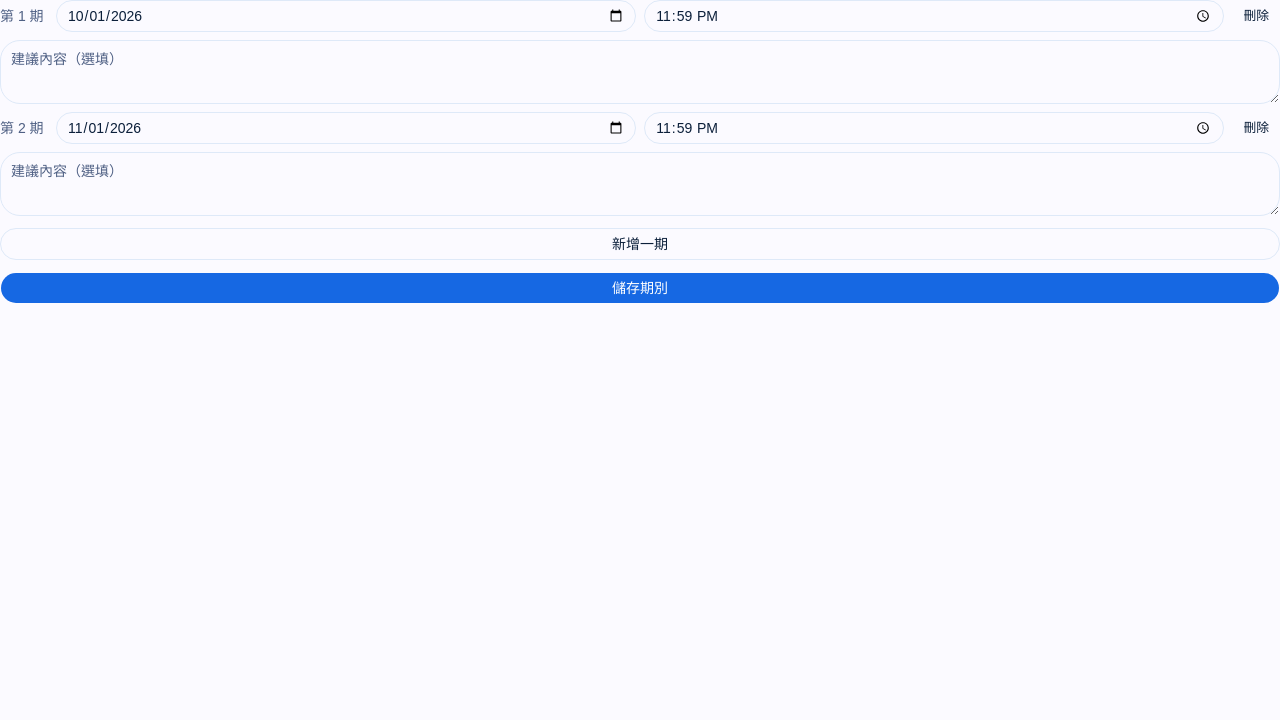
Test case: PeriodsForm › 確認視窗按取消：不儲存，列表維持編輯中的樣子
Step 1. Click the button with aria-label "刪除第 1 期" → (1256, 16), box x1=1232 y1=2 x2=1279 y2=30
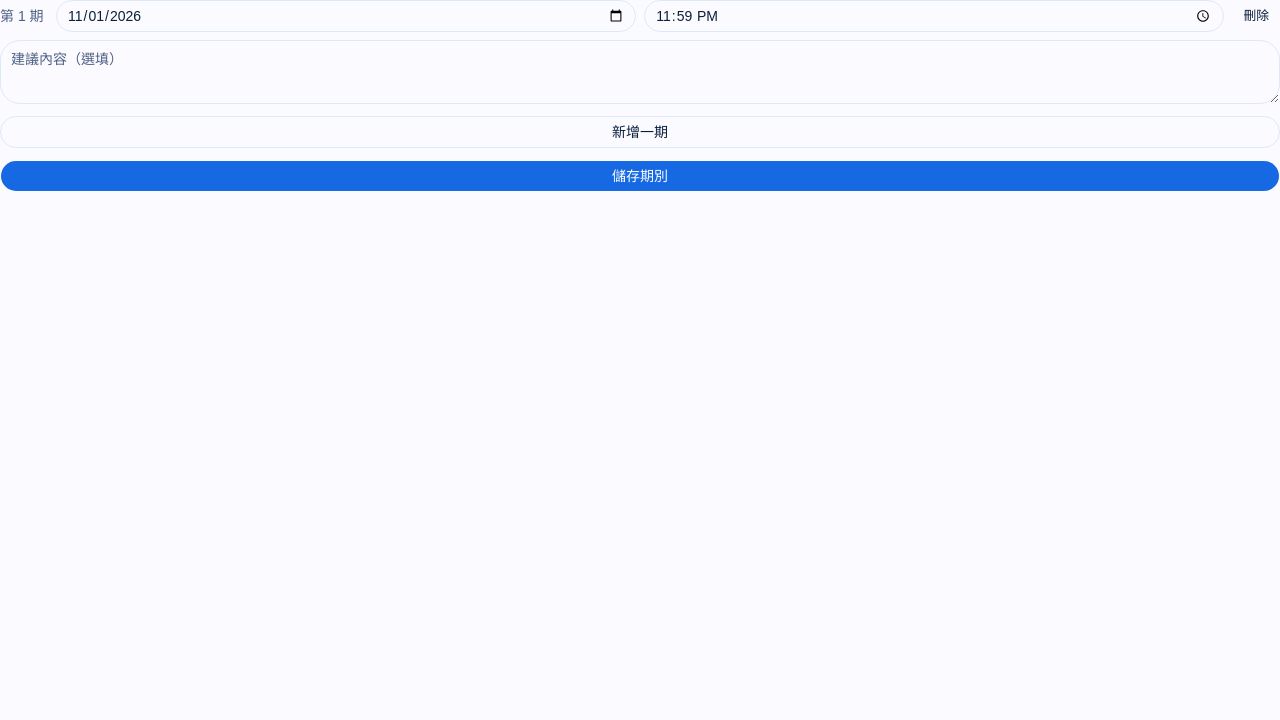
Step 2. Click the button "儲存期別" → (640, 176), box x1=0 y1=160 x2=1279 y2=192
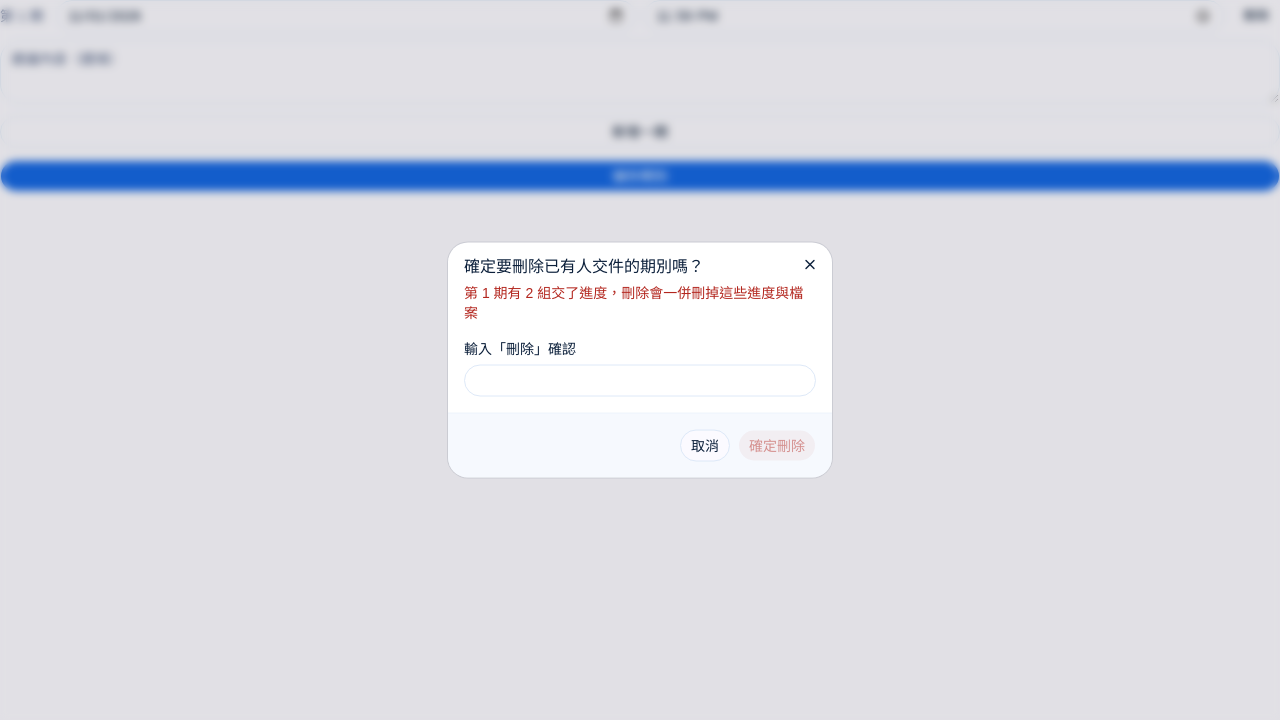
expect the dialog is shown: met, box x1=448 y1=242 x2=832 y2=478
Step 3. Click the button "取消" → (705, 446), box x1=680 y1=430 x2=730 y2=462
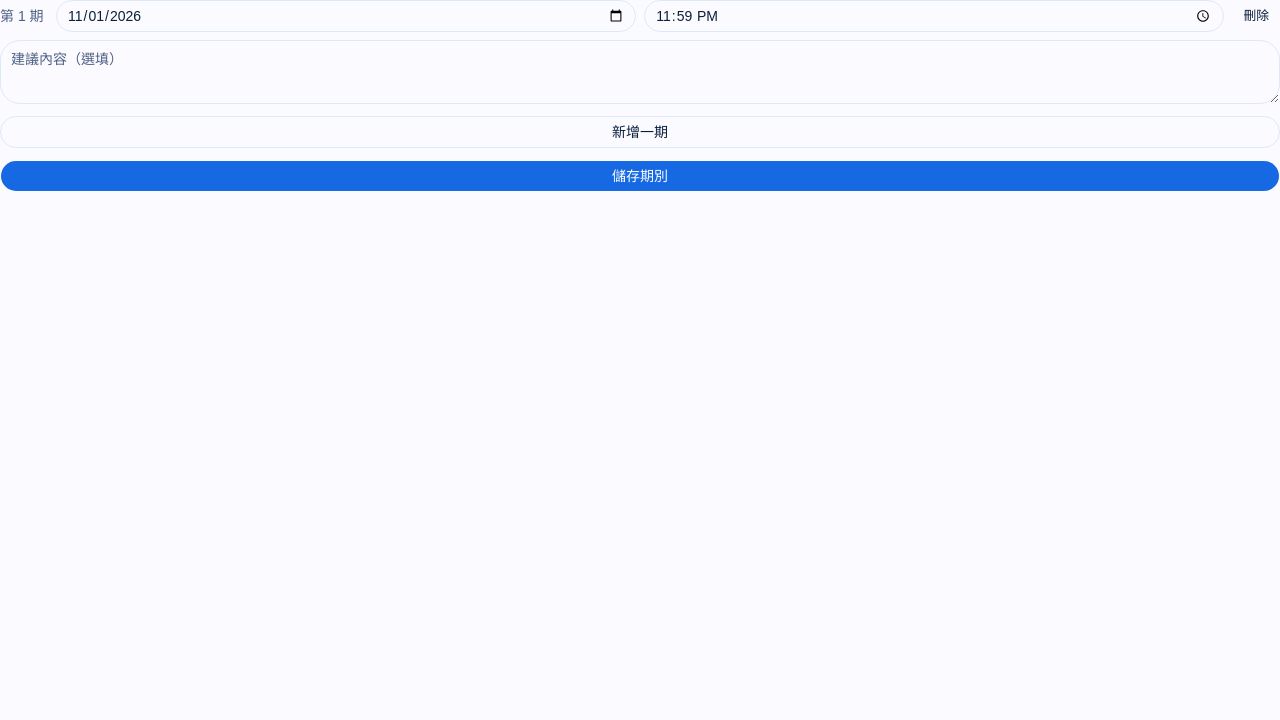
expect the number of date fields named "期日期" is 1: met, box x1=56 y1=0 x2=636 y2=32
expect the dialog is gone: met
